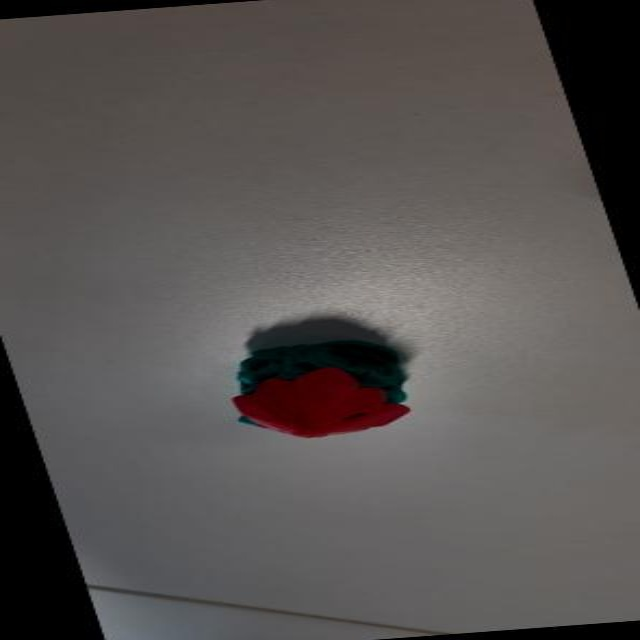House: (210, 329, 449, 449)
